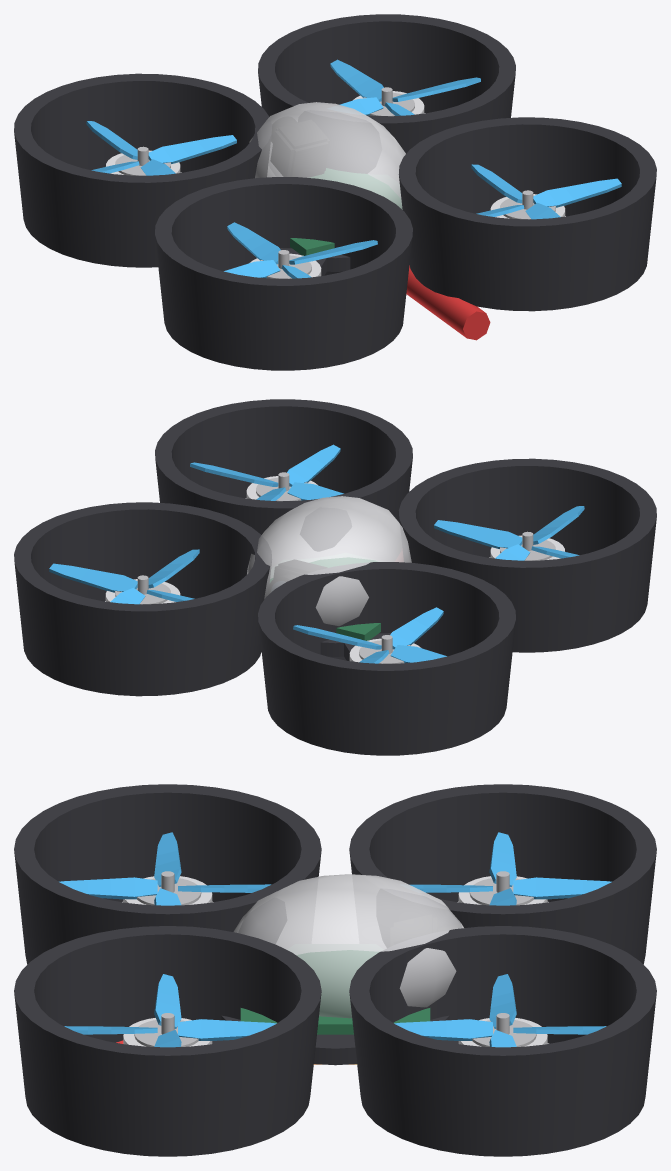
File: whoop75.glb
3 renders of one model, top to bottom at view 1: azimuth 30°, elevation 25°; view 2: azimuth 150°, elevation 25°; view 3: azimuth 270°, elevation 25°, orthographic. The views are drawn at different scales.
Parts seen in each view (by area): view 1: body, fpv_cam, prop_RR, prop_FL, prop_RL, prop_FR; view 2: body, prop_FR, prop_RL, prop_FL, prop_RR, fpv_cam; view 3: body, prop_RL, prop_RR, prop_FR, prop_FL, fpv_cam.
Part boxes in pixels (box(x1,y1,x2,y2)): body: box(14, 14, 656, 370); fpv_cam: box(270, 116, 329, 177); prop_RR: box(471, 164, 621, 219); prop_FL: box(86, 121, 236, 175); prop_RL: box(224, 222, 377, 278); prop_FR: box(330, 59, 480, 115); body: box(14, 399, 656, 755); prop_FR: box(49, 549, 199, 604); prop_RL: box(434, 506, 584, 560); prop_FL: box(293, 607, 446, 663); prop_RR: box(190, 444, 343, 500); fpv_cam: box(268, 560, 326, 593); body: box(14, 784, 656, 1156); prop_RL: box(59, 832, 271, 905); prop_RR: box(64, 974, 276, 1047); prop_FR: box(394, 974, 606, 1047); prop_FL: box(409, 832, 611, 905); fpv_cam: box(390, 914, 460, 945).
Bounding box in the file's own units: 0.1016 × 0.0306 × 0.1016.
